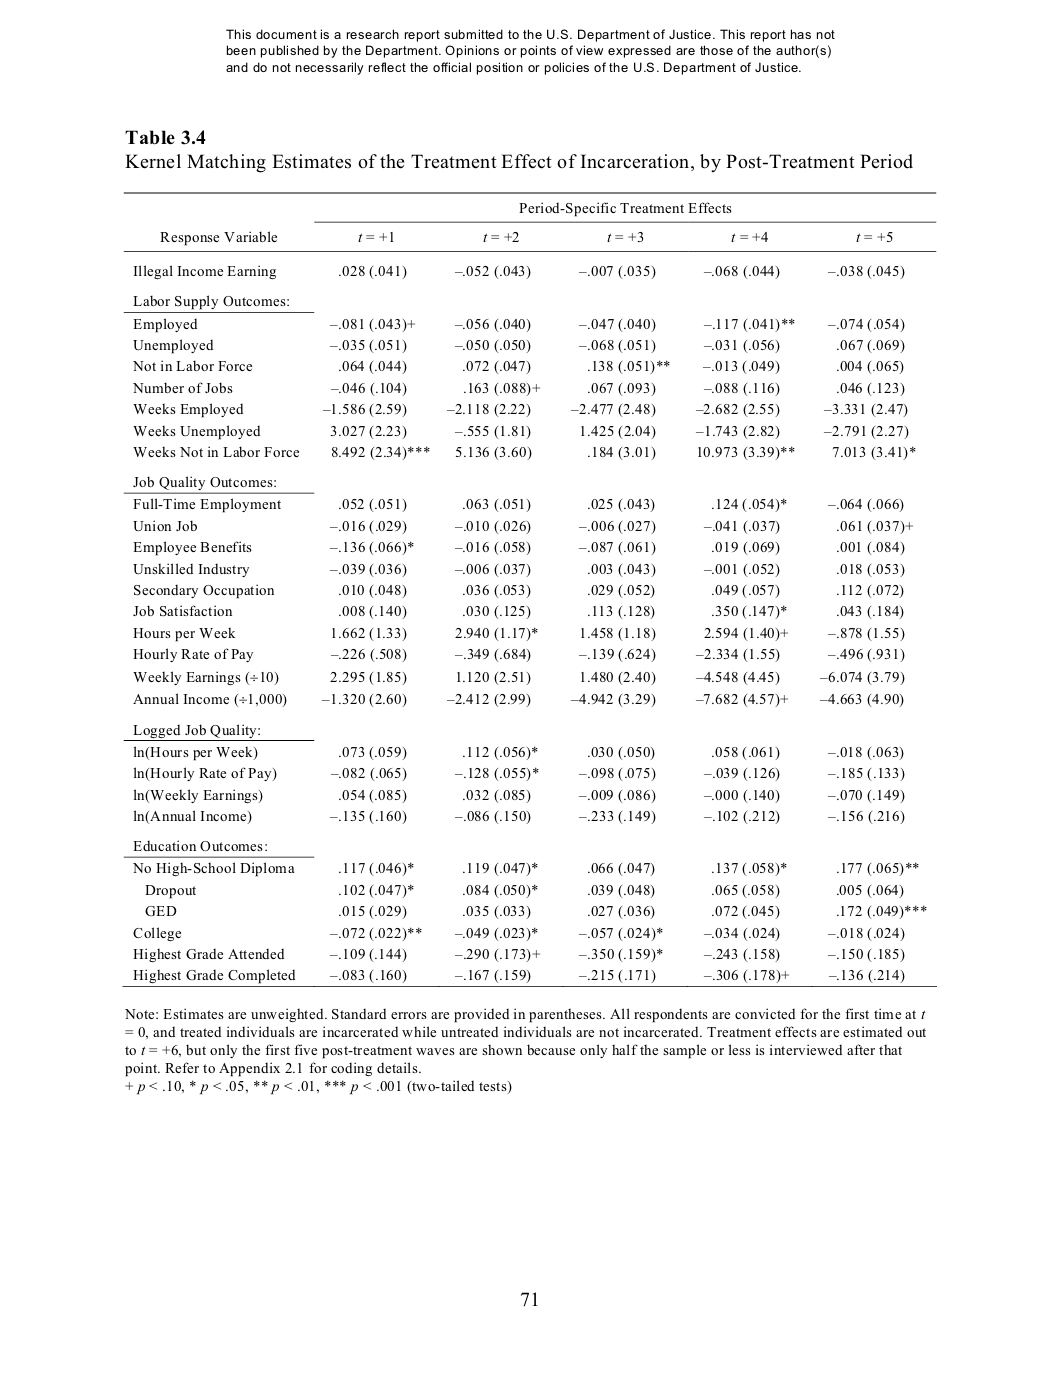Table: (121, 192, 936, 986)
